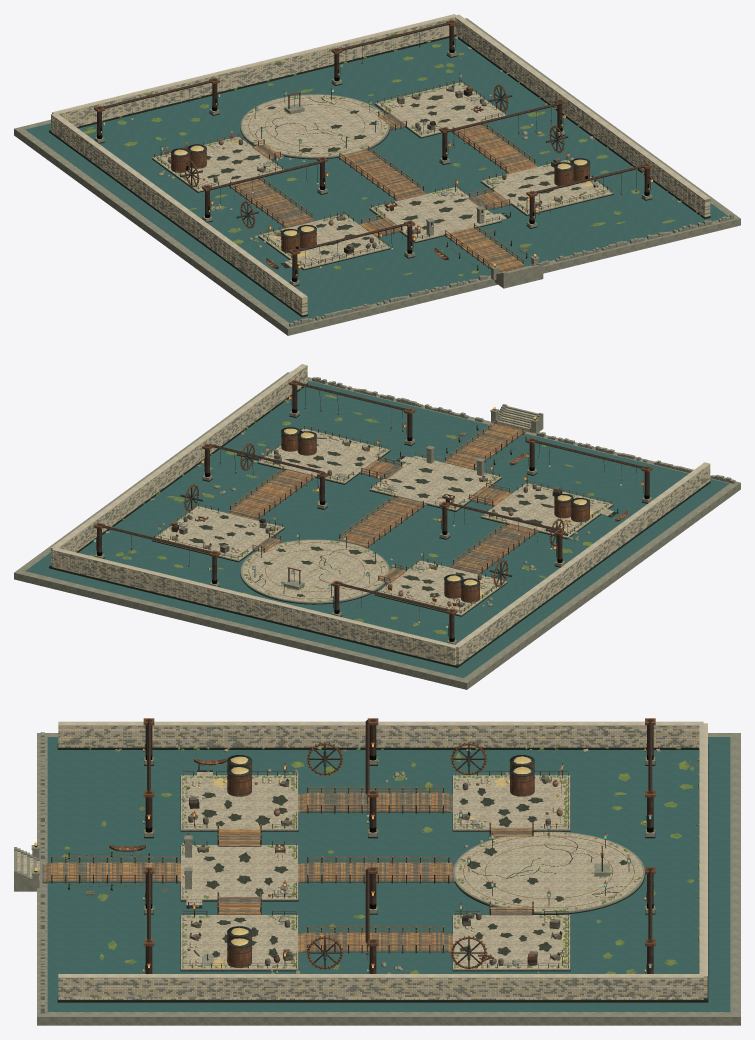
The model's file is mill-cellar.glb.
3 views of the same model, one above another, from view 1: azimuth 30°, elevation 25°; view 2: azimuth 150°, elevation 25°; view 3: azimuth 270°, elevation 25° (orthographic). The views are drawn at different scales.
Parts seen in each view (by area): view 1: Water surface | water, Raised flagstone rooms | paving, Cellar foundation | stone, Boundary / individual masonry blocks | stone, Boundary / individual masonry blocks | wall, Boundary / individual masonry blocks | plaster, Spirit arena paved surface | paving, Boundary / wall coping | plaster, Bridge / separate deck boards | wood_weathered, Bridge / separate deck boards | plank, Bridge / separate deck boards | wood_light, Overhead support beams | darkwood (+17 smaller); view 2: Water surface | water, Raised flagstone rooms | paving, Cellar foundation | stone, Boundary / individual masonry blocks | wall, Boundary / individual masonry blocks | plaster, Boundary / individual masonry blocks | stone, Spirit arena paved surface | paving, Boundary / wall coping | plaster, Bridge / separate deck boards | wood_weathered, Bridge / separate deck boards | plank, Bridge / separate deck boards | wood_light, Wall damp band | wetstone (+14 smaller); view 3: Water surface | water, Raised flagstone rooms | paving, Cellar foundation | stone, Boundary / individual masonry blocks | stone, Boundary / individual masonry blocks | wall, Boundary / individual masonry blocks | plaster, Spirit arena paved surface | paving, Boundary / wall coping | plaster, Bridge / separate deck boards | wood_weathered, Bridge / separate deck boards | plank, Bridge / separate deck boards | wood_light, Wall damp band | wetstone (+21 smaller).
Part boxes in pixels (x1=…): Water surface | water: x1=25, y1=36, x2=728, y2=322; Raised flagstone rooms | paving: x1=152, y1=82, x2=612, y2=269; Cellar foundation | stone: x1=14, y1=18, x2=740, y2=335; Boundary / individual masonry blocks | stone: x1=51, y1=18, x2=710, y2=312; Boundary / individual masonry blocks | wall: x1=51, y1=18, x2=710, y2=314; Boundary / individual masonry blocks | plaster: x1=51, y1=17, x2=710, y2=315; Spirit arena paved surface | paving: x1=242, y1=95, x2=388, y2=156; Boundary / wall coping | plaster: x1=51, y1=14, x2=710, y2=298; Bridge / separate deck boards | wood_weathered: x1=229, y1=113, x2=531, y2=272; Bridge / separate deck boards | plank: x1=230, y1=115, x2=537, y2=269; Bridge / separate deck boards | wood_light: x1=233, y1=113, x2=535, y2=272; Overhead support beams | darkwood: x1=99, y1=21, x2=647, y2=251; Water surface | water: x1=26, y1=380, x2=729, y2=677; Raised flagstone rooms | paving: x1=152, y1=428, x2=612, y2=615; Cellar foundation | stone: x1=14, y1=372, x2=740, y2=689; Boundary / individual masonry blocks | wall: x1=51, y1=367, x2=710, y2=665; Boundary / individual masonry blocks | plaster: x1=51, y1=369, x2=710, y2=664; Boundary / individual masonry blocks | stone: x1=51, y1=366, x2=710, y2=664; Spirit arena paved surface | paving: x1=242, y1=540, x2=388, y2=601; Boundary / wall coping | plaster: x1=51, y1=364, x2=709, y2=648; Bridge / separate deck boards | wood_weathered: x1=228, y1=424, x2=537, y2=582; Bridge / separate deck boards | plank: x1=228, y1=425, x2=534, y2=582; Bridge / separate deck boards | wood_light: x1=234, y1=424, x2=538, y2=582; Wall damp band | wetstone: x1=49, y1=383, x2=710, y2=667; Water surface | water: x1=47, y1=737, x2=730, y2=1011; Raised flagstone rooms | paving: x1=181, y1=775, x2=570, y2=970; Cellar foundation | stone: x1=37, y1=733, x2=740, y2=1025; Boundary / individual masonry blocks | stone: x1=58, y1=726, x2=707, y2=999; Boundary / individual masonry blocks | wall: x1=58, y1=726, x2=707, y2=999; Boundary / individual masonry blocks | plaster: x1=58, y1=726, x2=707, y2=999; Spirit arena paved surface | paving: x1=455, y1=832, x2=642, y2=911; Boundary / wall coping | plaster: x1=58, y1=721, x2=707, y2=978; Bridge / separate deck boards | wood_weathered: x1=42, y1=792, x2=532, y2=951; Bridge / separate deck boards | plank: x1=51, y1=792, x2=532, y2=952; Bridge / separate deck boards | wood_light: x1=44, y1=792, x2=532, y2=952; Wall damp band | wetstone: x1=57, y1=744, x2=708, y2=1002.
Size of the model in its own units: 126 by 11.05 by 136.
34 materials, 34 textured.
